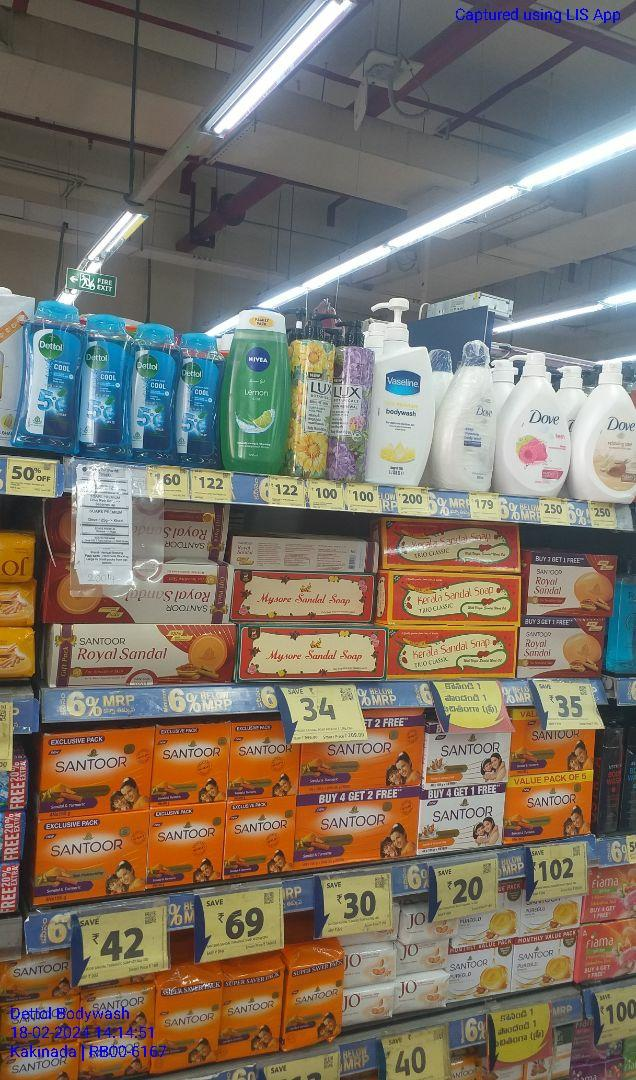Dettol_Bodywash_Cool: (13, 300, 79, 452), (82, 313, 128, 459), (131, 321, 177, 465), (181, 329, 221, 470)
